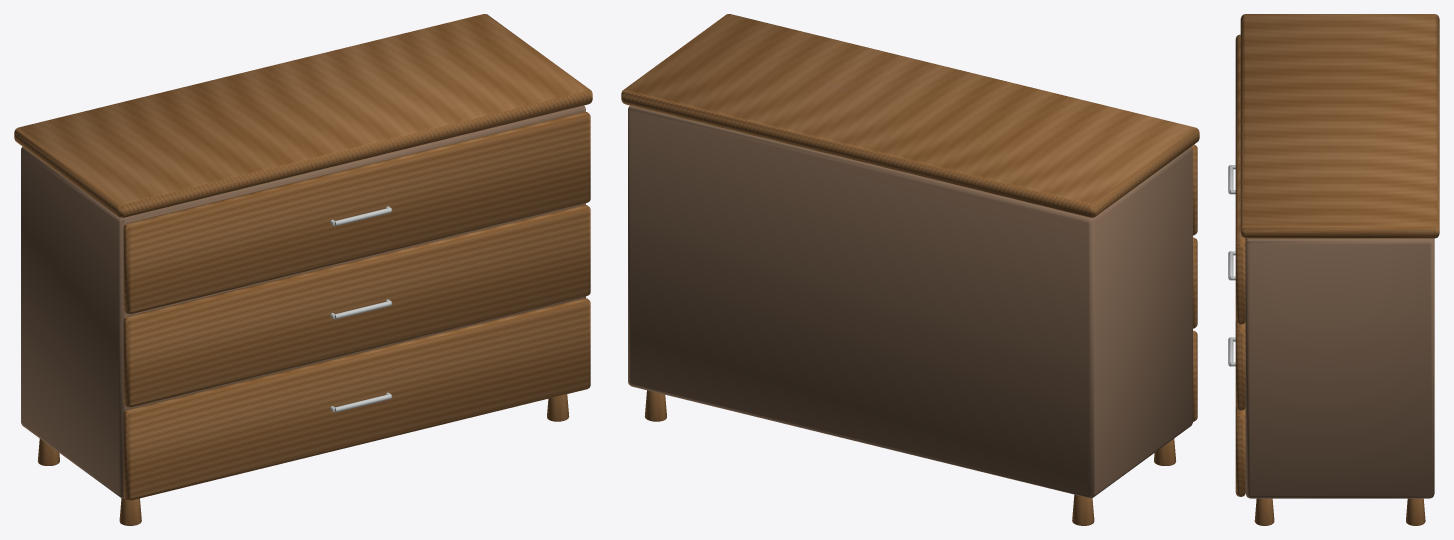
File: dresser.glb
3 renders of one model, left to right at view 1: azimuth 30°, elevation 25°; view 2: azimuth 150°, elevation 25°; view 3: azimuth 270°, elevation 25°, orthographic. The views are drawn at different scales.
Visible parts, largest first — view 1: dresser-mesh; view 2: dresser-mesh; view 3: dresser-mesh.
Boxes of the visible parts, left/top/right/bottom form: dresser-mesh: left=14, top=14, right=592, bottom=525; dresser-mesh: left=621, top=14, right=1199, bottom=525; dresser-mesh: left=1228, top=14, right=1439, bottom=525.
Bounding box in the file's own units: 1.2 × 0.8 × 0.5.
Materials: 3 (1 with a texture image).
